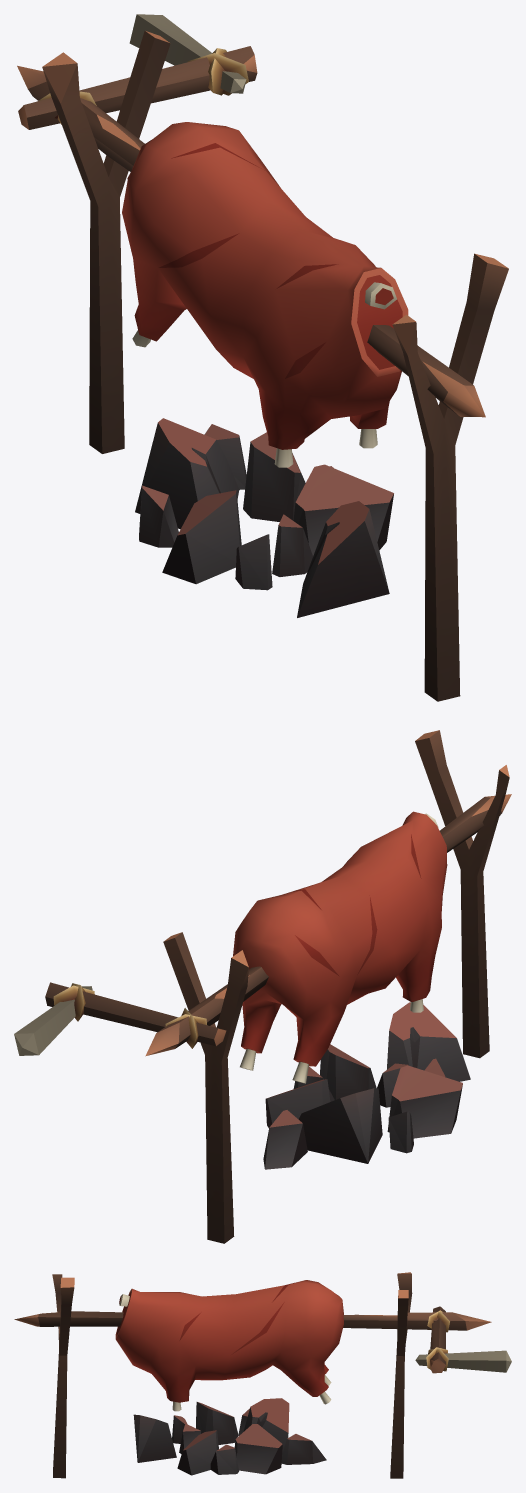
Rendered from Roasted_Meat_1A.fbx.
3 views of the same model, one above another, from view 1: azimuth 30°, elevation 25°; view 2: azimuth 150°, elevation 25°; view 3: azimuth 270°, elevation 25° (orthographic). The views are drawn at different scales.
Parts seen in each view (by area): view 1: Rotating_Meat_1A, Rotisory_1A; view 2: Rotating_Meat_1A, Rotisory_1A; view 3: Rotating_Meat_1A, Rotisory_1A.
Boxes of the visible parts, bbox=[...] form: Rotating_Meat_1A: bbox=[17, 14, 485, 467]; Rotisory_1A: bbox=[42, 31, 508, 701]; Rotating_Meat_1A: bbox=[14, 794, 511, 1083]; Rotisory_1A: bbox=[163, 730, 509, 1243]; Rotating_Meat_1A: bbox=[14, 1280, 511, 1411]; Rotisory_1A: bbox=[52, 1272, 412, 1478].
Size of the model in its own units: 1.06 by 1.37 by 2.95.
